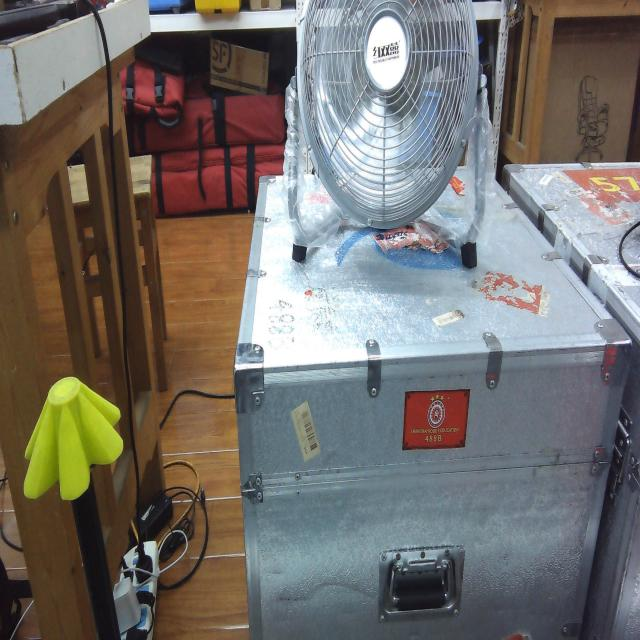Yellow-Stake-Head: (23, 376, 124, 501)
